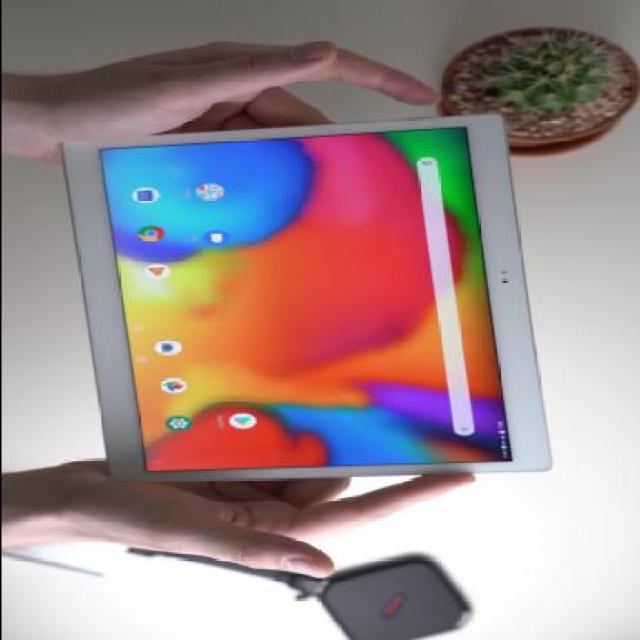tablet: (31, 103, 562, 487)
